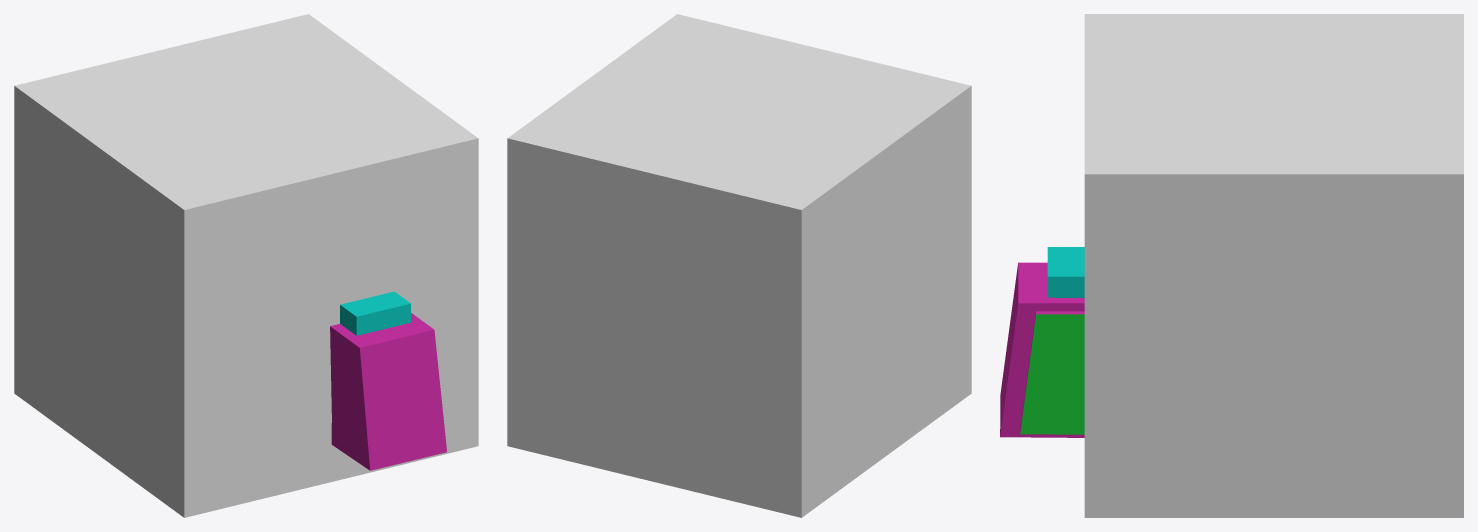
Rendered from Log test .fbx.
The picture shows the model from 3 angles, left to right: view 1: azimuth 30°, elevation 25°; view 2: azimuth 150°, elevation 25°; view 3: azimuth 270°, elevation 25°; orthographic projection. The views are drawn at different scales.
Parts seen in each view (by area): view 1: Cube, Cube.001; view 2: Cube; view 3: Cube, Cube.001.
Boxes of the visible parts, x1,y1,x2,y2 form: Cube: [14, 14, 478, 517]; Cube.001: [330, 291, 446, 470]; Cube: [507, 14, 971, 517]; Cube: [1084, 14, 1463, 517]; Cube.001: [1000, 247, 1084, 437].
Size of the model in its own units: 159 by 159 by 195.
